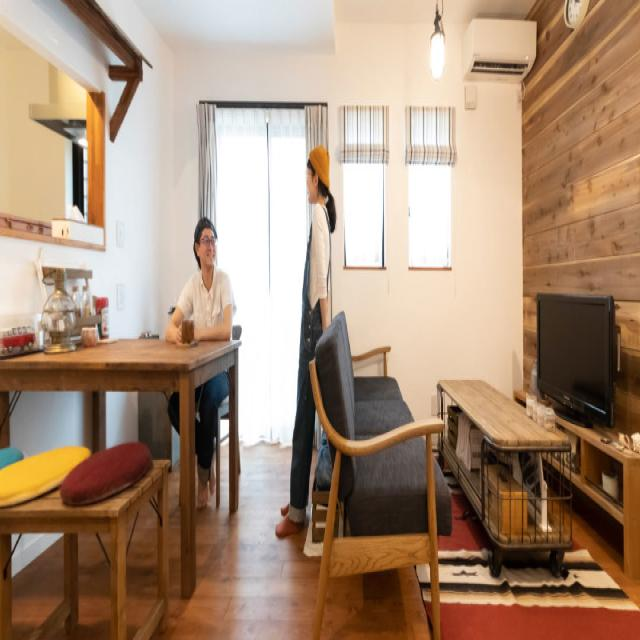vintage chair: (0, 449, 174, 632)
vintage desk: (2, 336, 240, 592), (437, 372, 577, 576)
vintage sofa: (311, 311, 448, 640)
